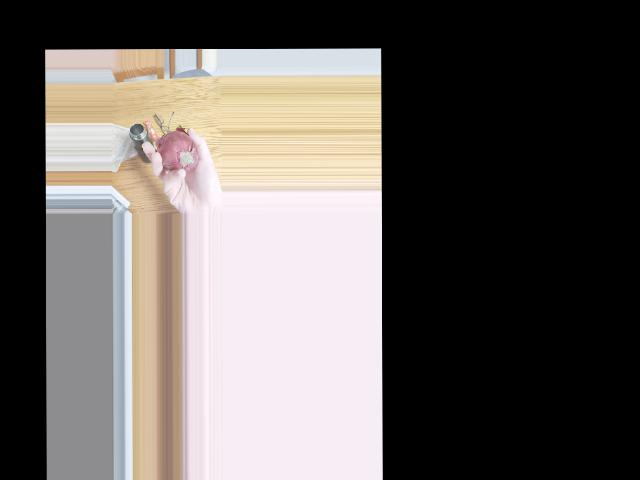onion: (157, 130, 199, 177)
